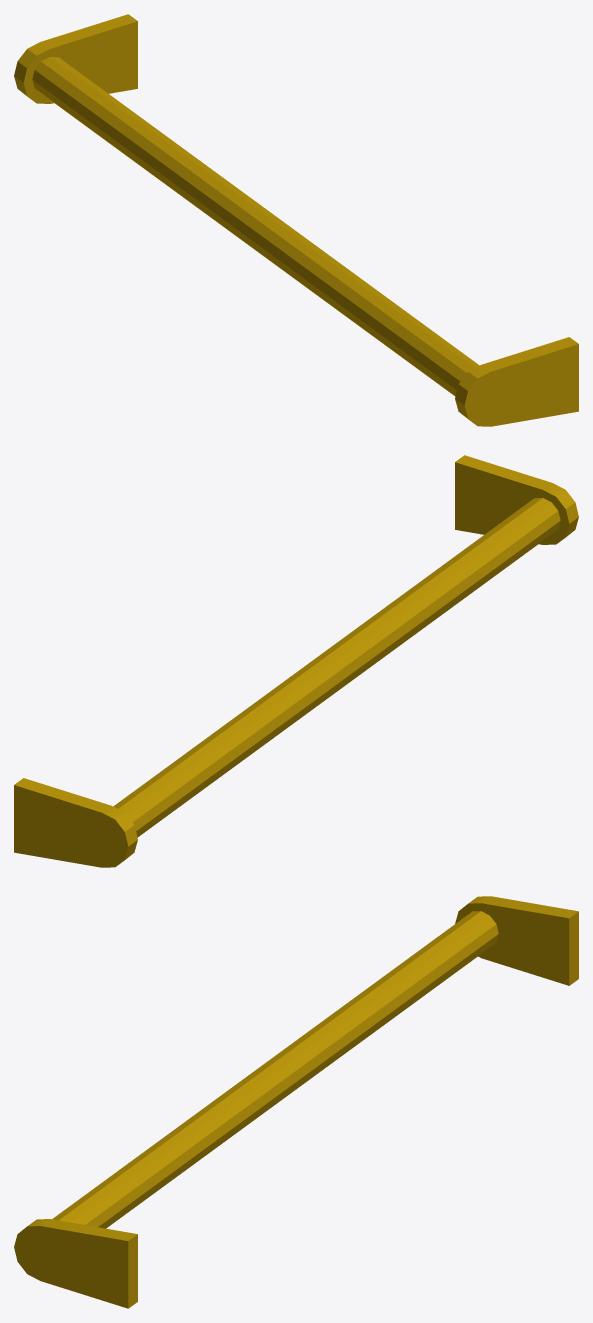
File: Bath_Towel_Base.fbx
3 views of the same model, one above another, from view 1: azimuth 30°, elevation 25°; view 2: azimuth 150°, elevation 25°; view 3: azimuth 330°, elevation 25° (orthographic).
Visible parts, largest first — view 1: Bath_Towel_Base; view 2: Bath_Towel_Base; view 3: Bath_Towel_Base.
Boxes of the visible parts, box(x1,y1,x2,y2) form: Bath_Towel_Base: box(14, 14, 578, 426); Bath_Towel_Base: box(14, 455, 578, 867); Bath_Towel_Base: box(14, 896, 578, 1308).
Bounding box in the file's own units: 56.16 × 31.72 × 383.
